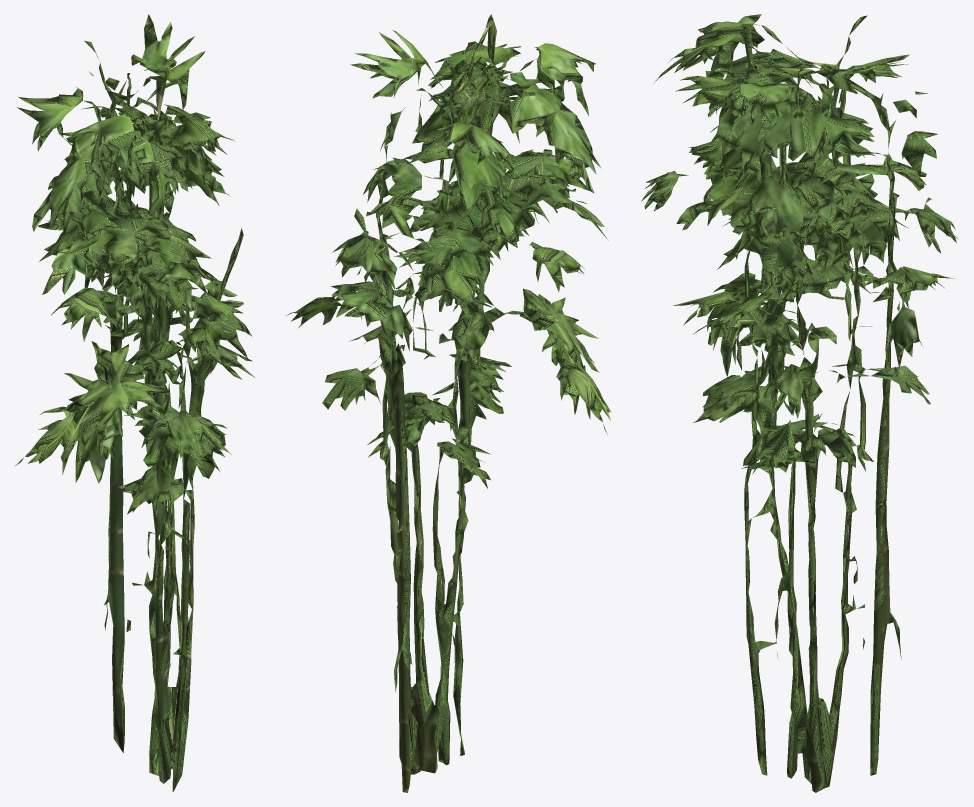
Rendered from bamboo.glb.
3 renders of one model, left to right at view 1: azimuth 30°, elevation 25°; view 2: azimuth 150°, elevation 25°; view 3: azimuth 270°, elevation 25°, orthographic. The views are drawn at different scales.
Size of the model in its own units: 0.7136 by 1.99 by 0.7746.
1 material, 1 textured.
